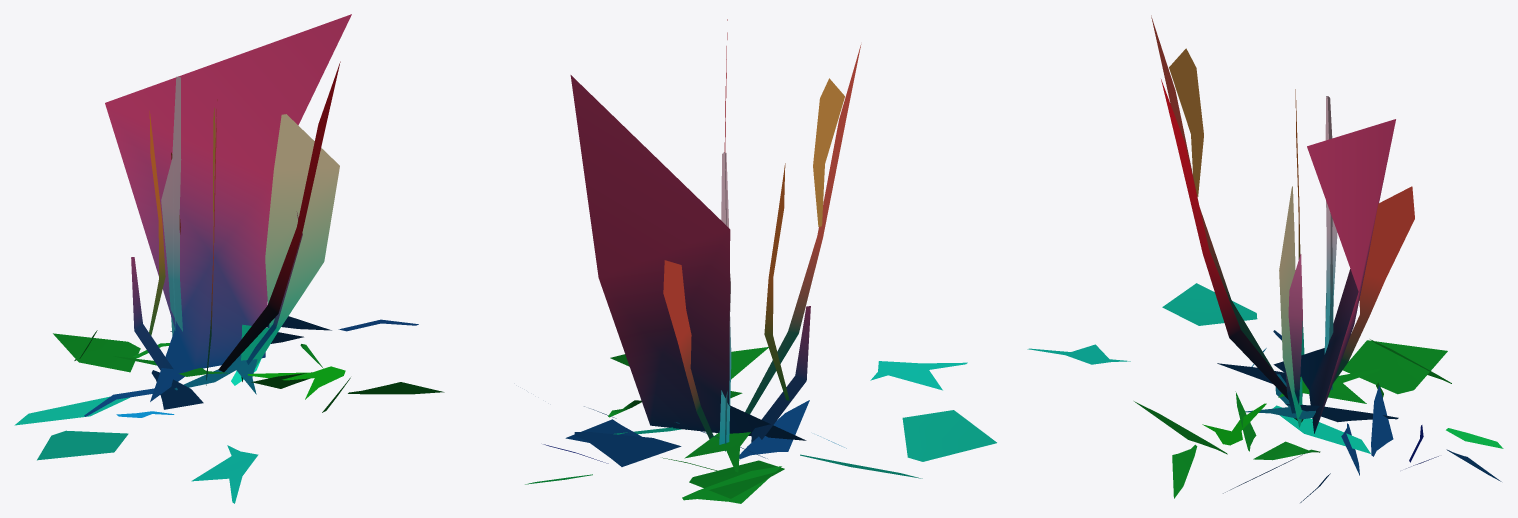
Rendered from Dead_Shrubs_vdknafgha_Low_vdknafgha_VarD_LOD0.fbx.
The picture shows the model from 3 angles, left to right: view 1: azimuth 30°, elevation 25°; view 2: azimuth 150°, elevation 25°; view 3: azimuth 270°, elevation 25°; orthographic projection.
Parts seen in each view (by area): view 1: _oeft_VarD_LOD1; view 2: _oeft_VarD_LOD1; view 3: _oeft_VarD_LOD1.
Boxes of the visible parts, x1,y1,x2,y2 form: _oeft_VarD_LOD1: (14, 14, 444, 503); _oeft_VarD_LOD1: (525, 19, 996, 503); _oeft_VarD_LOD1: (1027, 15, 1503, 502).
Bounding box in the file's own units: 42.54 × 34.55 × 40.17.
